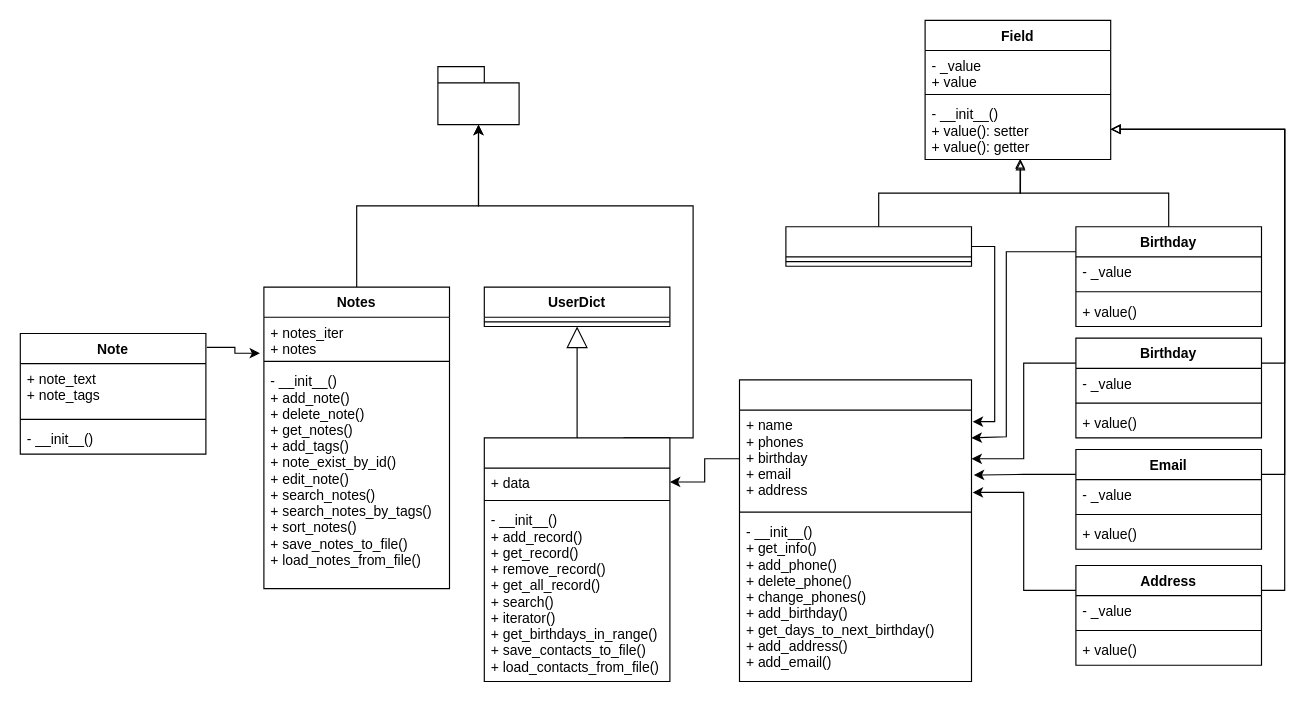
Image size: 1314x705. Some labels were removed from this diagram. Here are the shapes that lost their labels. From the top down, the box of each, then its label:
(437, 66, 519, 125): pickle
(785, 226, 971, 266): Name
(738, 379, 971, 682): Record
(483, 437, 670, 682): AddressBook
